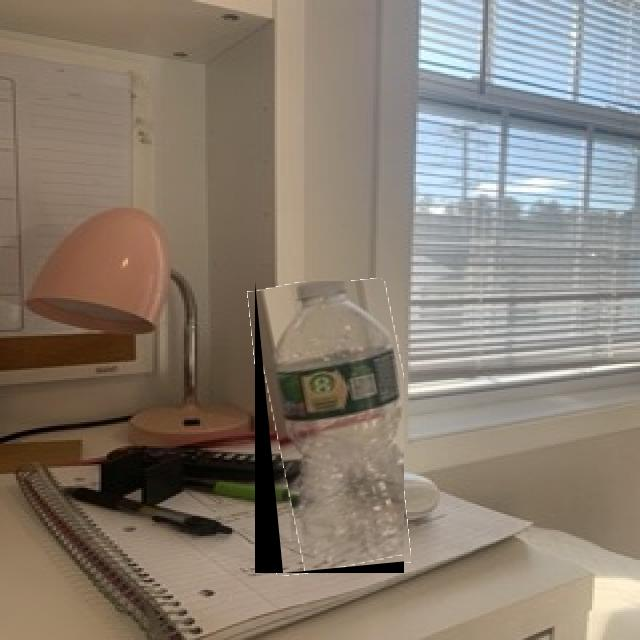water_bottle: (255, 281, 404, 573)
